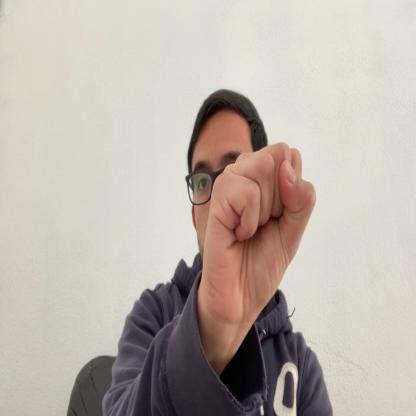S: (202, 142, 316, 354)
